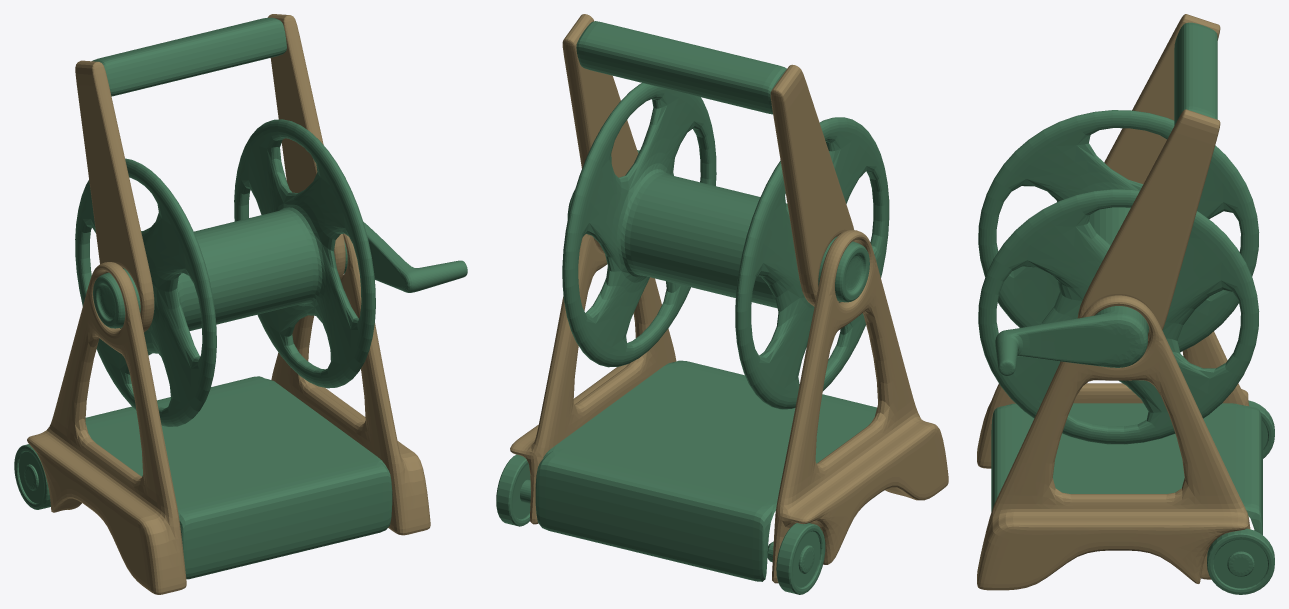
Rendered from hose-reel.obj.
3 renders of one model, left to right at view 1: azimuth 30°, elevation 25°; view 2: azimuth 150°, elevation 25°; view 3: azimuth 270°, elevation 25°, orthographic. The views are drawn at different scales.
Parts seen in each view (by area): view 1: Hose_reel_base, Hose_reel_spindle, Hose_reel_handle, Hose_reel_wheels; view 2: Hose_reel_base, Hose_reel_spindle, Hose_reel_handle, Hose_reel_wheels; view 3: Hose_reel_spindle, Hose_reel_base, Hose_reel_handle, Hose_reel_wheels.
Boxes of the visible parts, bbox=[...] form: Hose_reel_base: bbox=[27, 233, 430, 594]; Hose_reel_spindle: bbox=[75, 119, 467, 426]; Hose_reel_handle: bbox=[75, 14, 345, 332]; Hose_reel_wheels: bbox=[14, 444, 50, 509]; Hose_reel_base: bbox=[510, 230, 948, 583]; Hose_reel_spindle: bbox=[562, 83, 889, 409]; Hose_reel_handle: bbox=[562, 14, 855, 306]; Hose_reel_wheels: bbox=[496, 454, 825, 594]; Hose_reel_spindle: bbox=[978, 110, 1259, 444]; Hose_reel_base: bbox=[977, 295, 1262, 590]; Hose_reel_handle: bbox=[1077, 14, 1220, 340]; Hose_reel_wheels: bbox=[1207, 400, 1274, 594].
Bounding box in the file's own units: 34.22 × 46.1 × 26.73.
